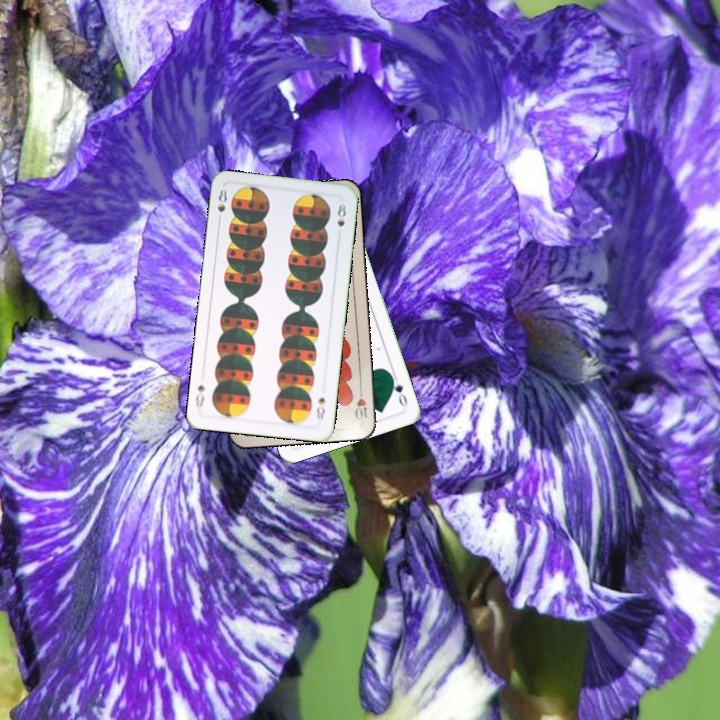GO: (387, 370, 410, 410)
H10: (351, 383, 370, 423)
S8: (214, 185, 229, 225), (312, 393, 328, 422)
